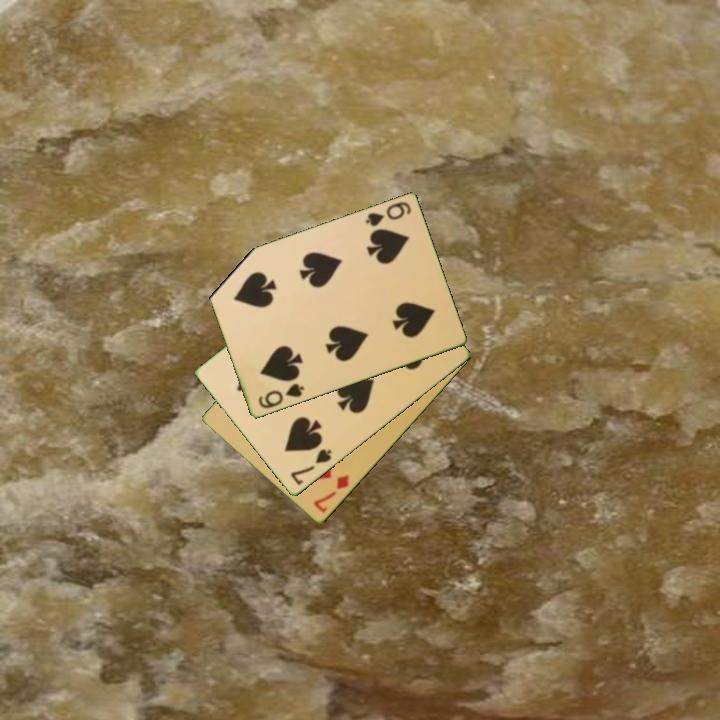6s: (254, 380, 307, 412), (361, 198, 414, 230)
7d: (310, 472, 352, 516)
7s: (287, 446, 335, 488)
